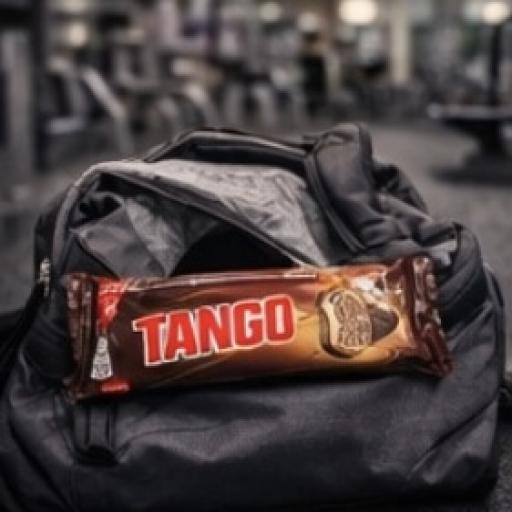tango: (47, 221, 482, 455)
